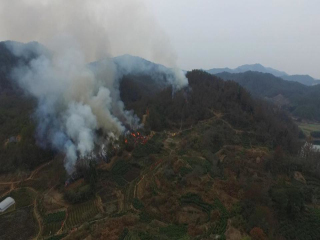smoke: (16, 13, 192, 180)
